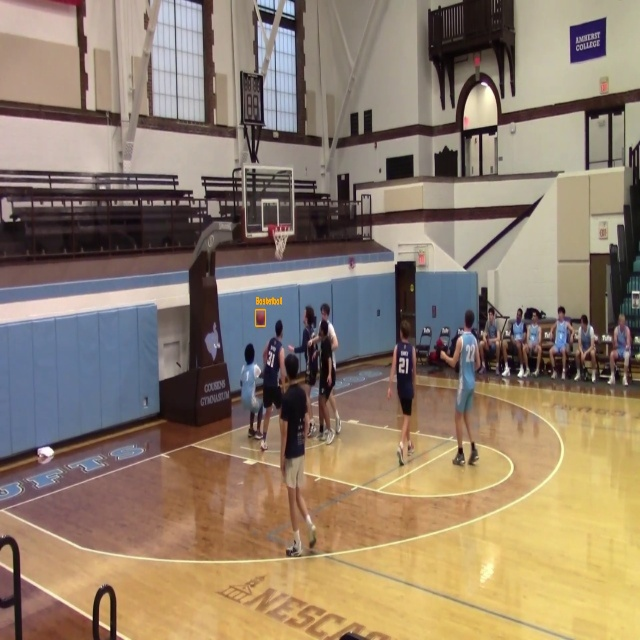Basketball: (256, 309, 265, 326)
